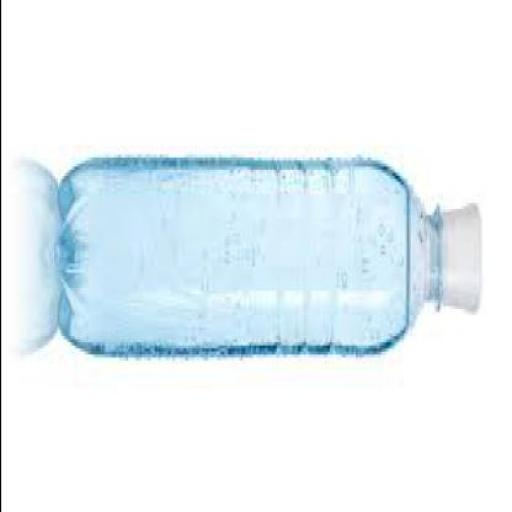plastic: (56, 154, 482, 358), (438, 203, 485, 311)
